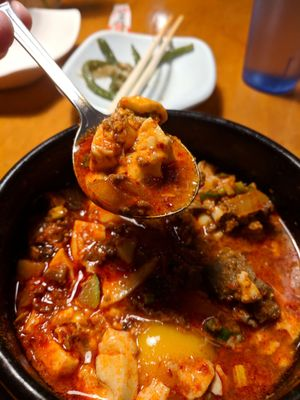pizza: (241, 0, 300, 96)
salad: (2, 1, 123, 189)
